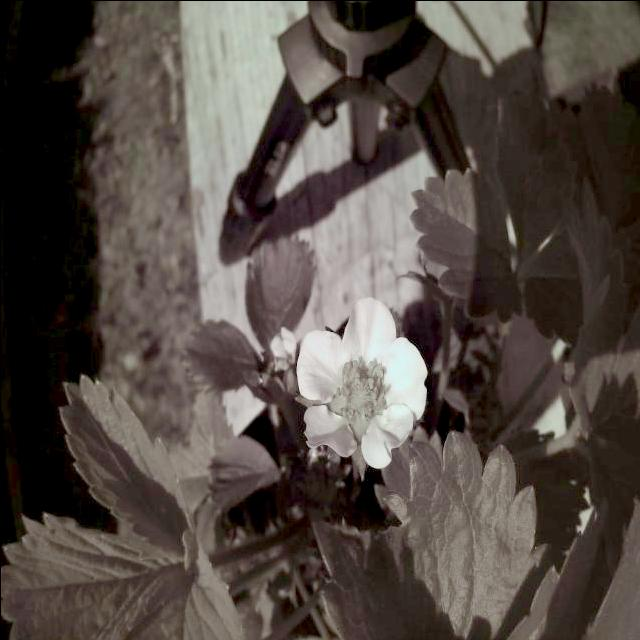flower: (290, 296, 432, 479)
